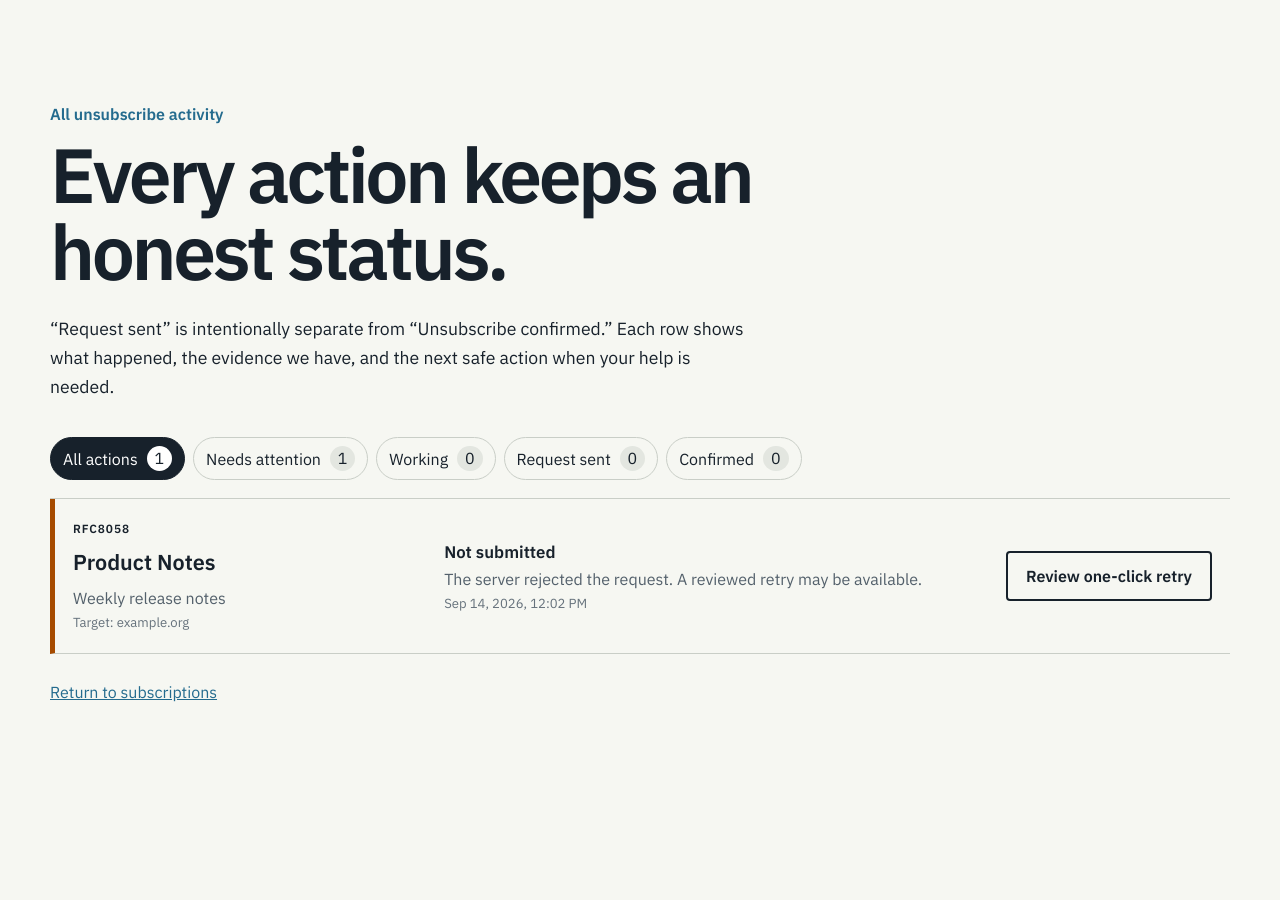
Test: requires a second confirmation before the one allowed one-click retry
Click the button "Review one-click retry": (1109, 576) top-left (1006, 551), bottom-right (1212, 601)
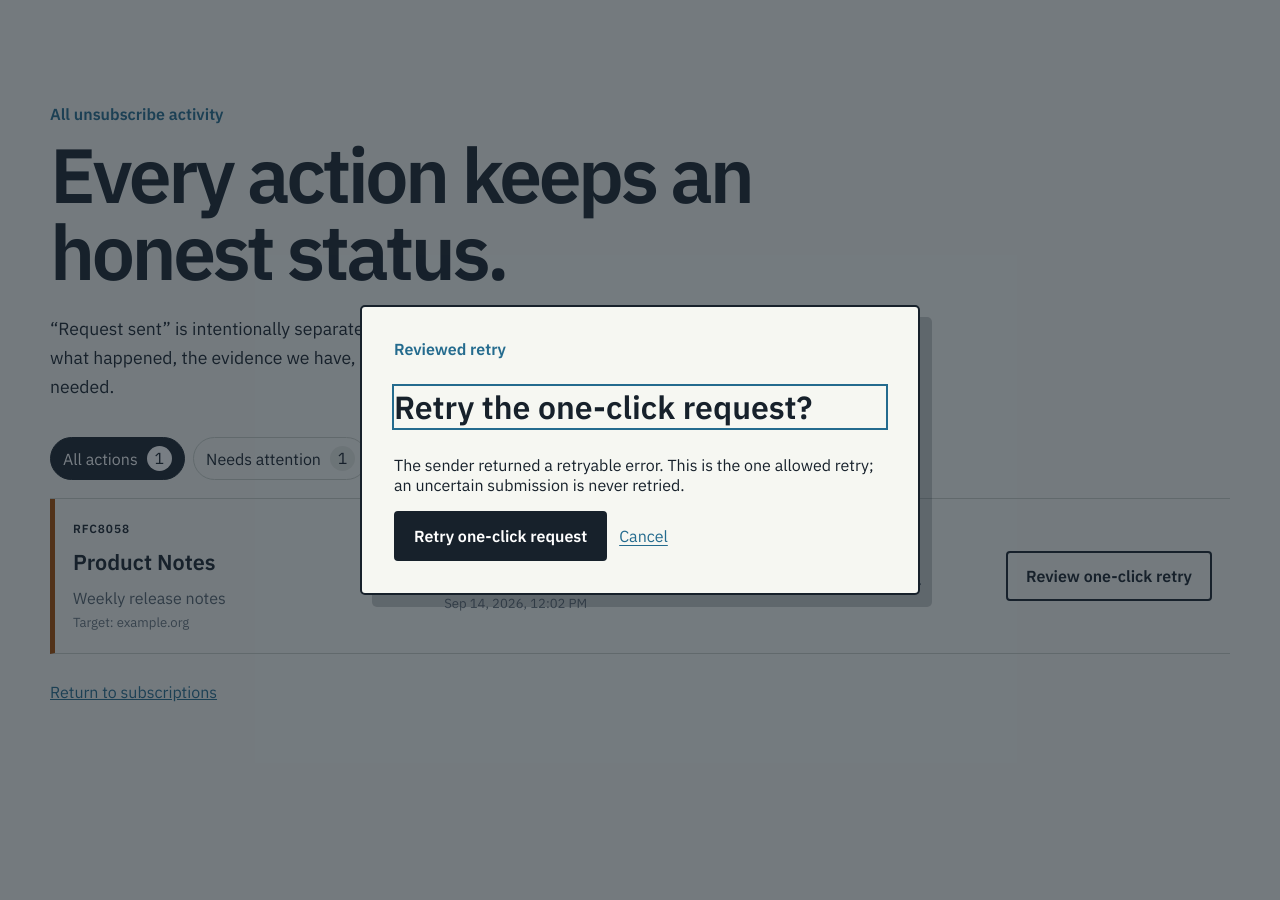
Result: the text "uncertain submission is never retried" is shown at top-left (394, 454), bottom-right (874, 494)
Click the button "Retry one-click request": (501, 536) top-left (394, 510), bottom-right (607, 560)
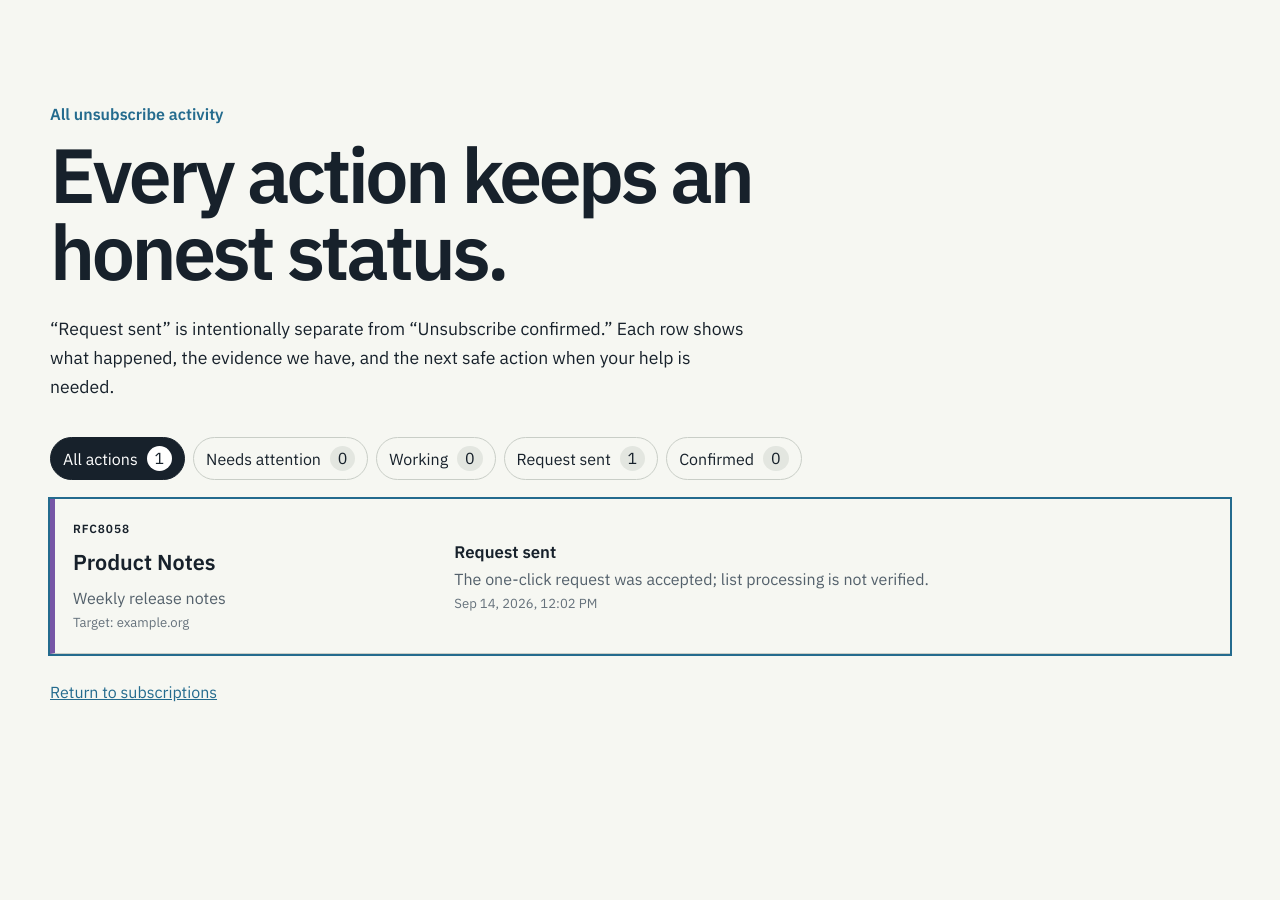
Result: the text "list processing is not verified" is shown at top-left (454, 569), bottom-right (929, 589)
Result: the button "Review one-click retry" is gone
